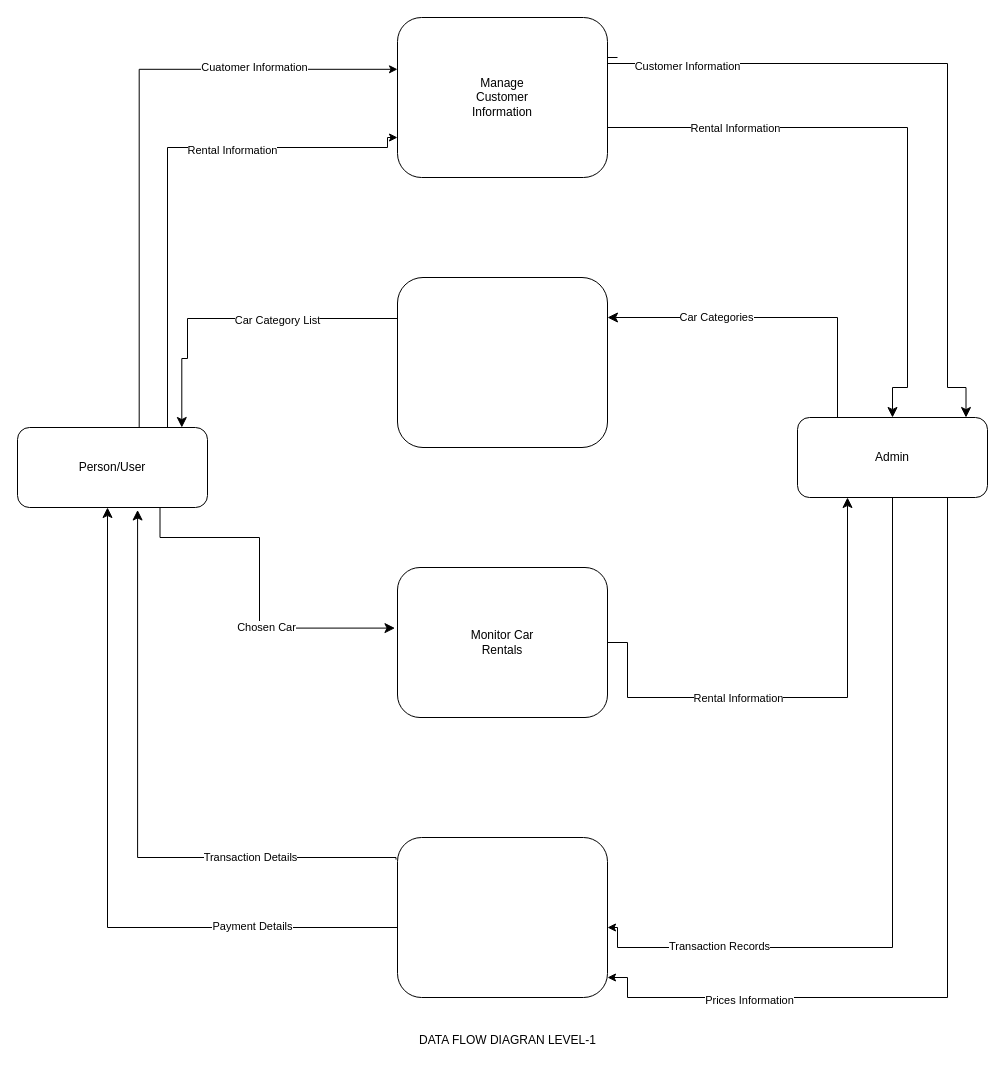
Some shapes in this 1005 by 1073 pixel diagram are drawn without their labels. The centre of each missing label's shape, as x and y in pixels:
Manage Transactions: the point at 502,917
Managr Car Information: the point at 502,362
